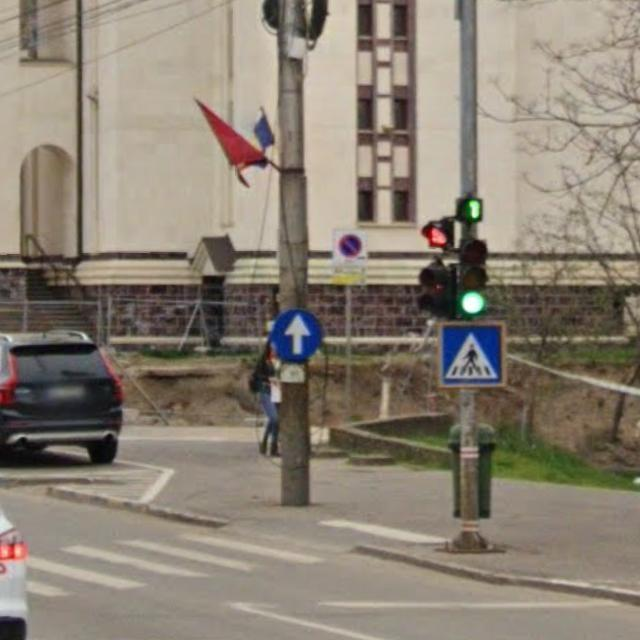info_crosswalk: (437, 321, 505, 389)
